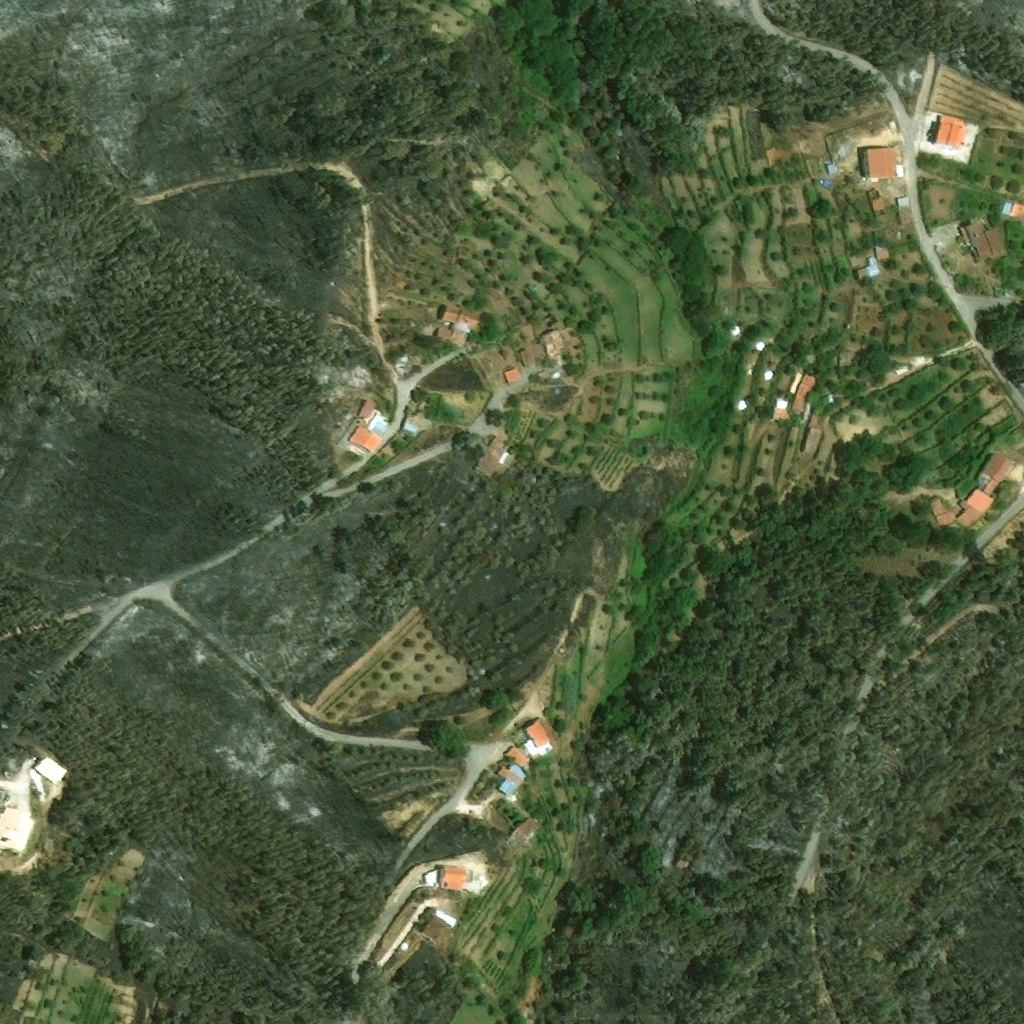0 no-damage: (958, 219, 1007, 260), (0, 805, 35, 857), (505, 814, 543, 852), (929, 115, 966, 147), (791, 372, 818, 415), (979, 453, 1012, 484), (420, 912, 453, 943), (864, 147, 894, 178), (537, 328, 562, 365), (349, 424, 383, 451), (953, 500, 982, 531), (963, 488, 994, 515), (483, 434, 509, 463), (535, 717, 559, 748), (523, 720, 547, 748), (854, 256, 879, 281), (496, 764, 523, 787), (474, 451, 498, 476), (455, 307, 482, 329), (502, 745, 527, 768), (800, 428, 821, 455), (337, 420, 358, 446), (446, 325, 469, 348), (440, 865, 470, 882), (999, 200, 1023, 220), (367, 411, 387, 434), (405, 413, 432, 430), (866, 188, 885, 212), (497, 778, 518, 798), (932, 510, 954, 529), (979, 476, 998, 497), (358, 398, 377, 418), (503, 364, 521, 384), (440, 304, 459, 322), (519, 346, 535, 366), (928, 500, 945, 518), (509, 762, 527, 779), (838, 352, 858, 367), (422, 868, 438, 886), (402, 421, 421, 436), (898, 207, 912, 226), (441, 879, 463, 891), (352, 414, 370, 428), (875, 244, 889, 260), (806, 411, 819, 428), (434, 326, 450, 339), (451, 322, 471, 332), (498, 449, 510, 464), (768, 407, 781, 420), (826, 161, 837, 175), (897, 197, 909, 208), (875, 213, 888, 223), (474, 341, 486, 351)
3 destroyed: (395, 357, 410, 369), (355, 364, 369, 376)
